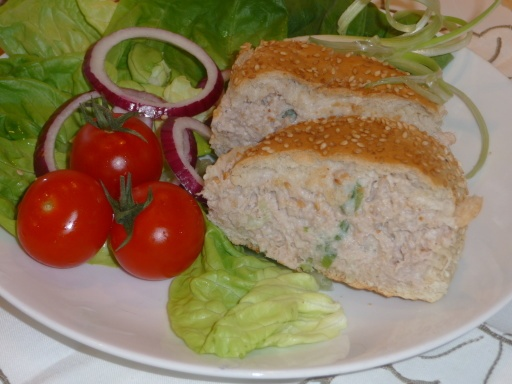background: (0, 0, 402, 215)
